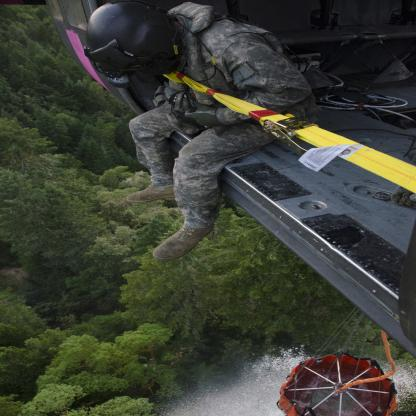Helmet: (74, 10, 190, 83)
